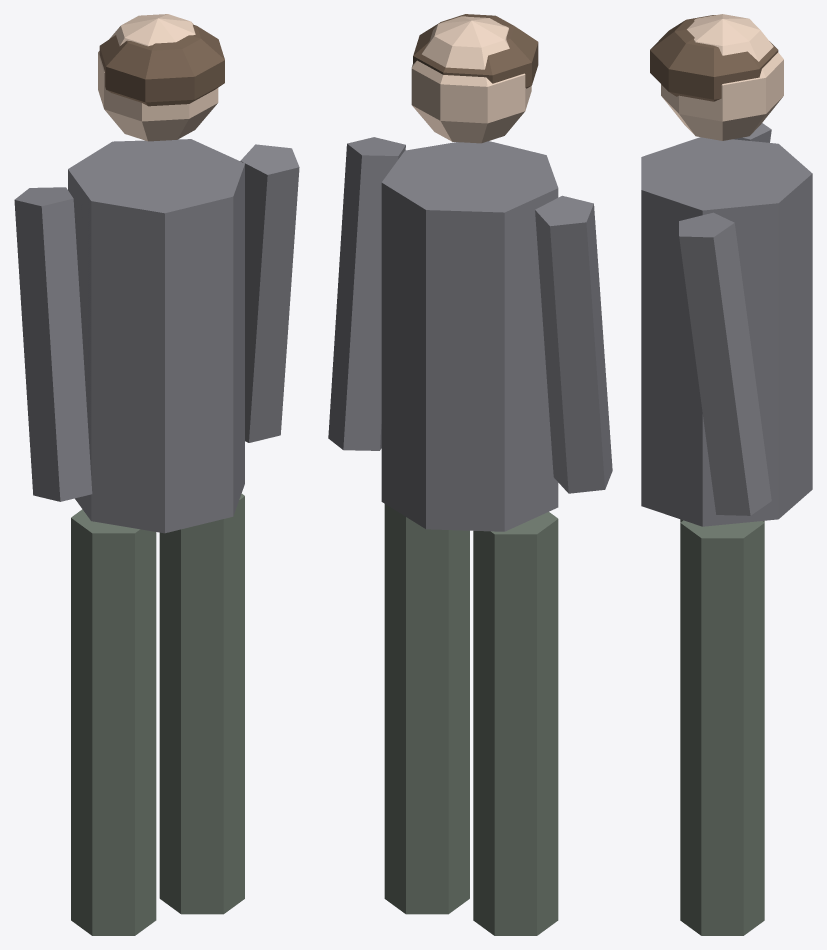
The model's file is ped_8.glb.
3 views of the same model, side by side, from view 1: azimuth 30°, elevation 25°; view 2: azimuth 150°, elevation 25°; view 3: azimuth 270°, elevation 25° (orthographic).
Parts seen in each view (by area): view 1: ped_8; view 2: ped_8; view 3: ped_8.
Part boxes in pixels (x1=…): ped_8: x1=14, y1=14, x2=299, y2=935; ped_8: x1=328, y1=14, x2=612, y2=935; ped_8: x1=641, y1=14, x2=812, y2=935.
Bounding box in the file's own units: 0.5246 × 1.73 × 0.3042.
